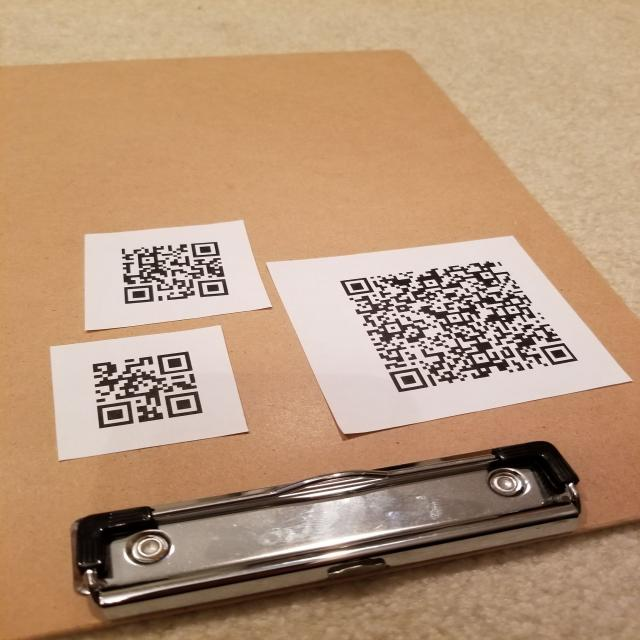QR_CODE: (324, 247, 585, 400), (78, 340, 218, 438), (108, 232, 236, 310)
